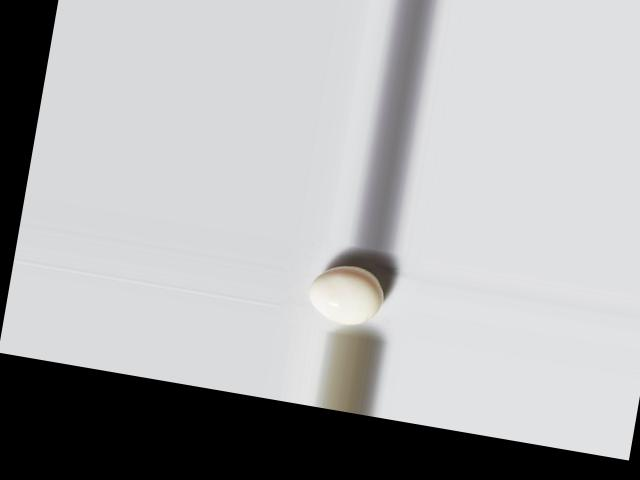egg: (306, 259, 388, 329)
